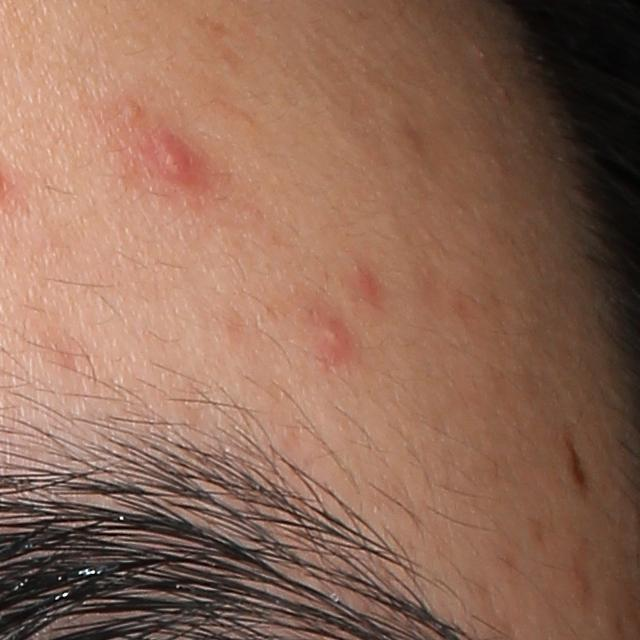comedo: (114, 95, 146, 121)
papule: (144, 129, 206, 191), (314, 315, 351, 359)
